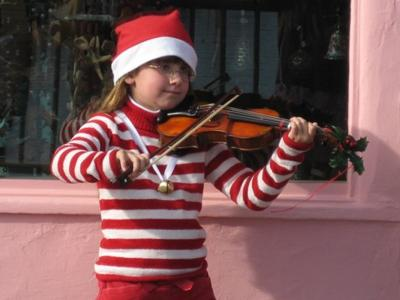person: (50, 14, 316, 300)
